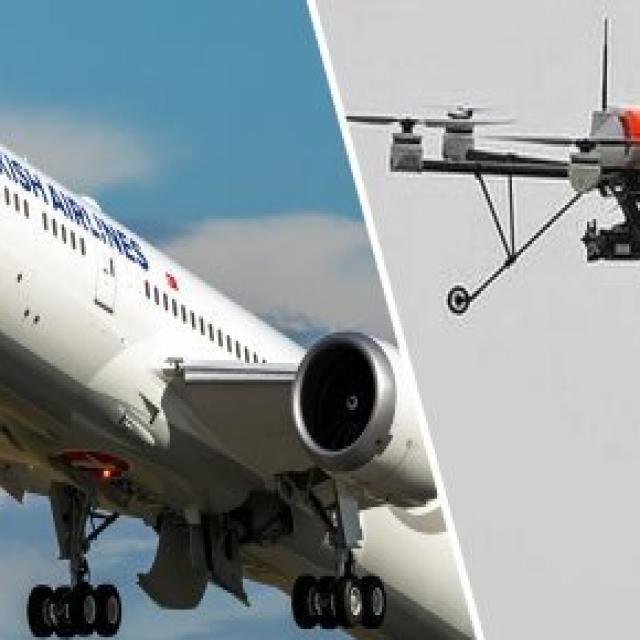drone: (342, 69, 640, 294)
